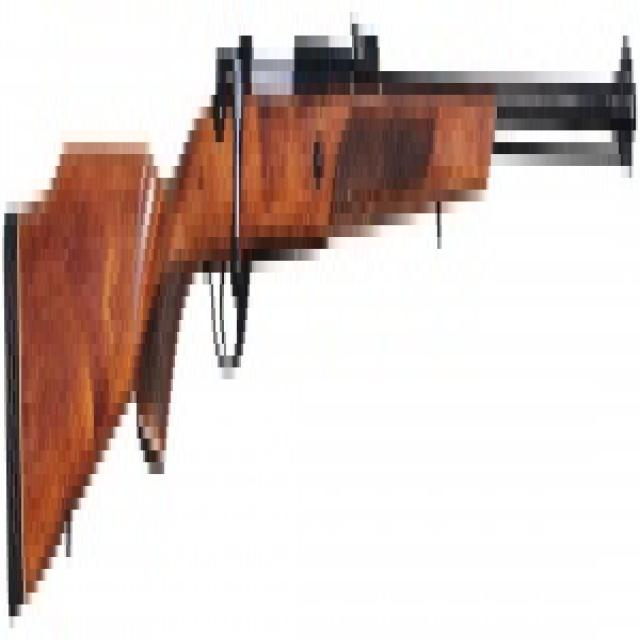rifle: (1, 1, 640, 599)
